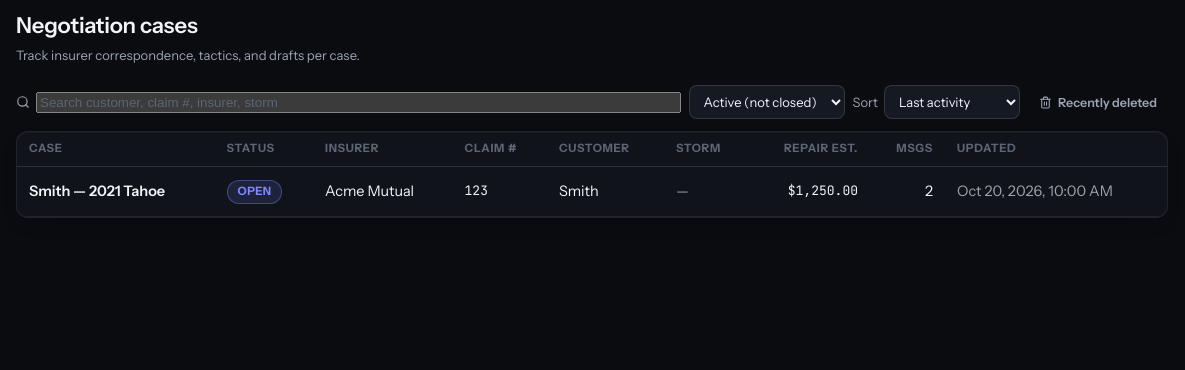
Test: CasesView controls follow the role and the plan › read-only: a deleted case is listed but Restore (a write) is off
Click the button "Recently deleted": (1098, 102) [1028,90,1168,115]
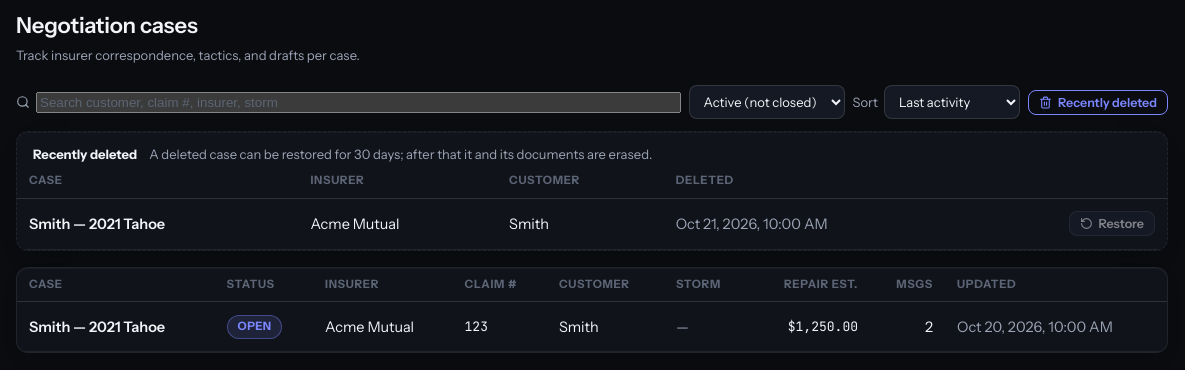
Expected: the button "Restore" is disabled, [1068,211,1155,236]
